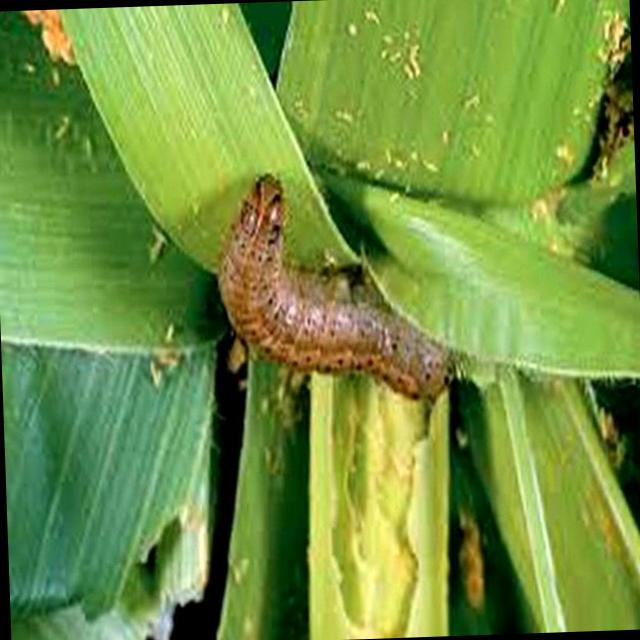pest: (219, 174, 449, 418)
